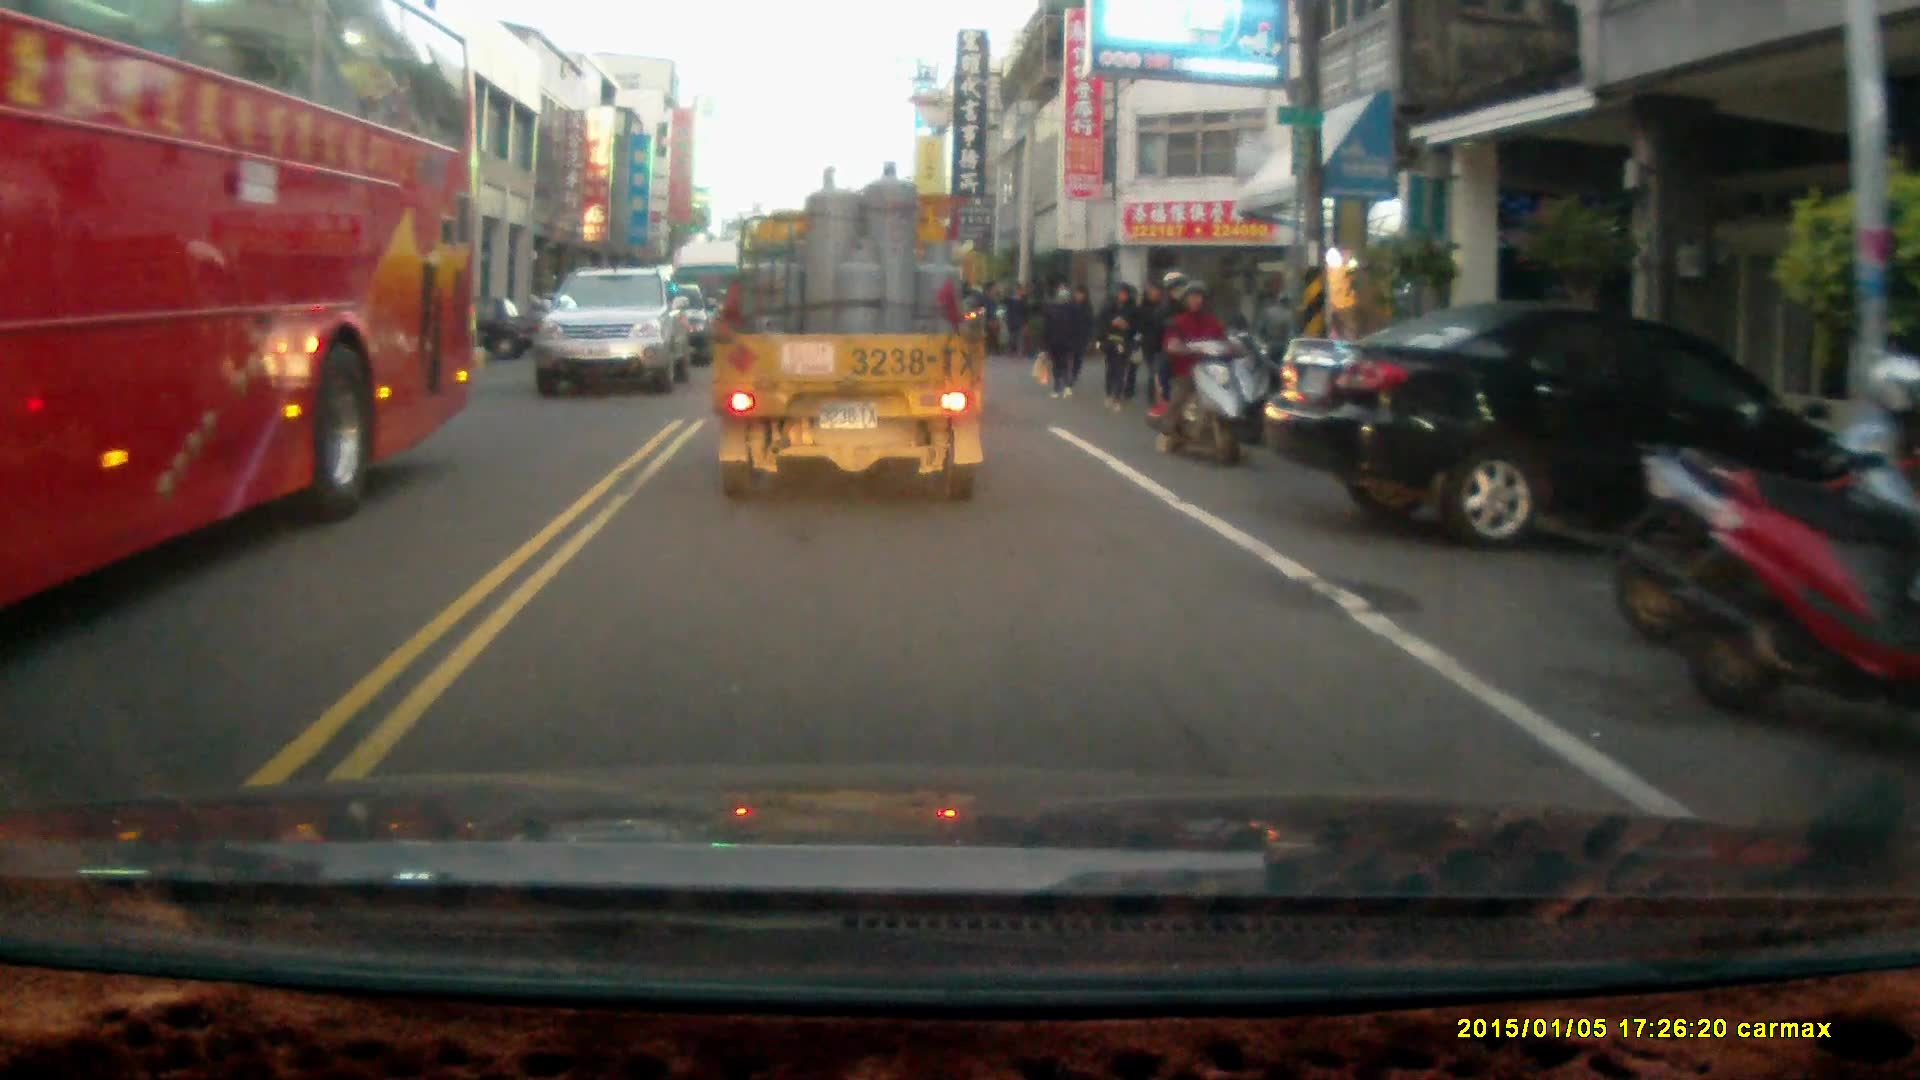pedestrian: (1136, 278, 1183, 413), (1037, 277, 1080, 400), (1101, 278, 1140, 412), (1002, 275, 1031, 357)
rider: (1145, 267, 1240, 460)
vehicle: (1, 7, 485, 619), (1269, 302, 1856, 548), (713, 160, 993, 502), (535, 267, 687, 402)
